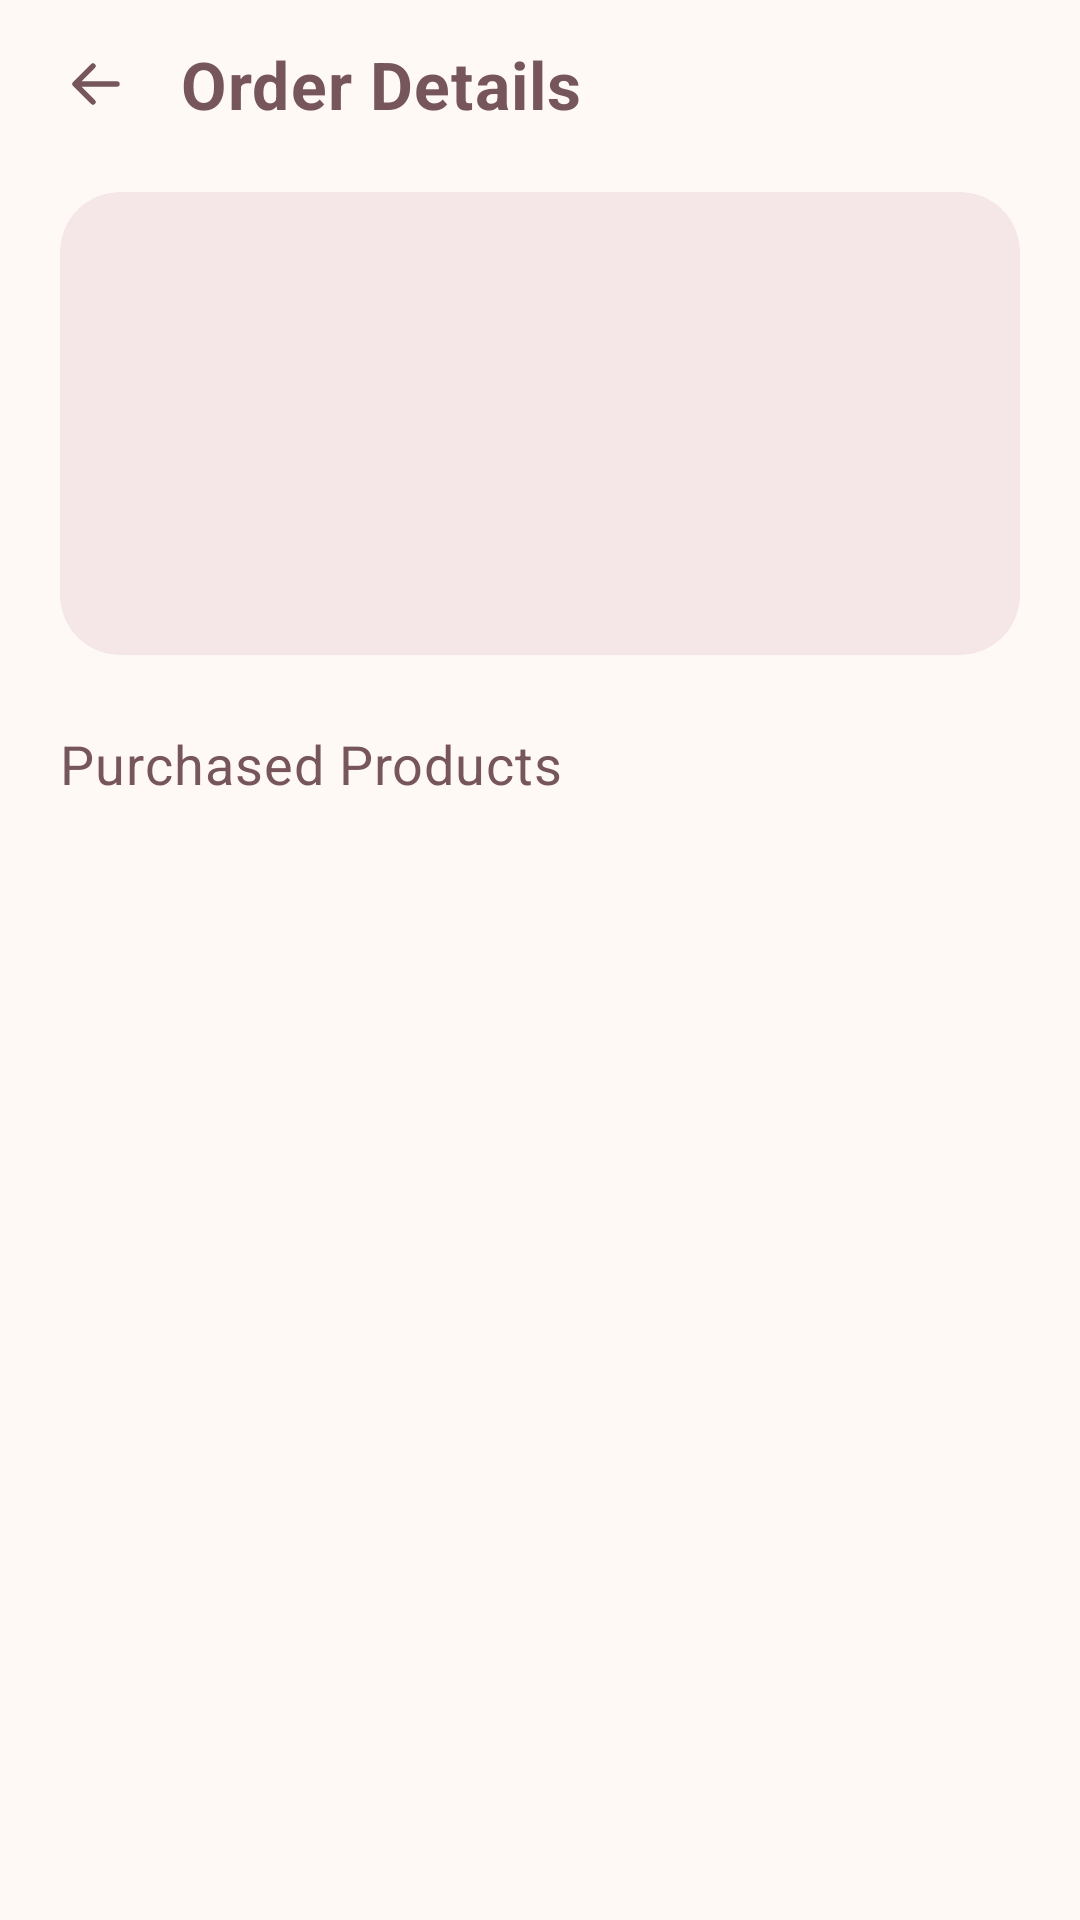

Named icons in this screenshot (1080px x 1920px) and their centers, (x=x, y=y):
Retour: (x=96, y=84)
